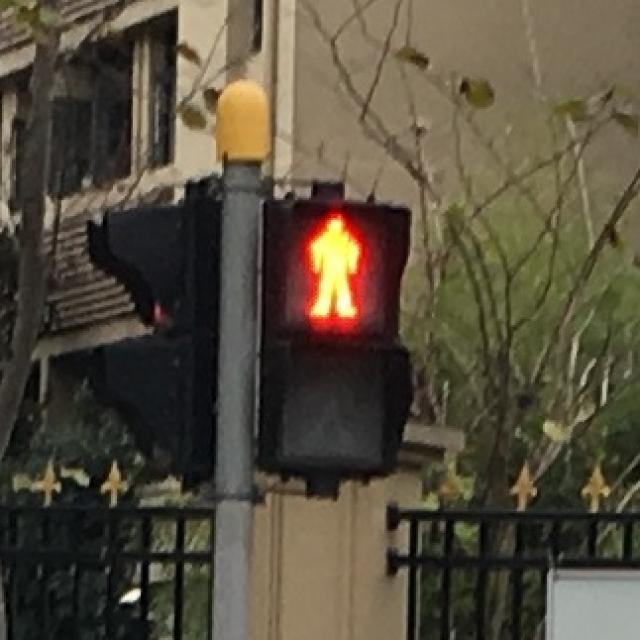red-crossing: (289, 196, 376, 337)
